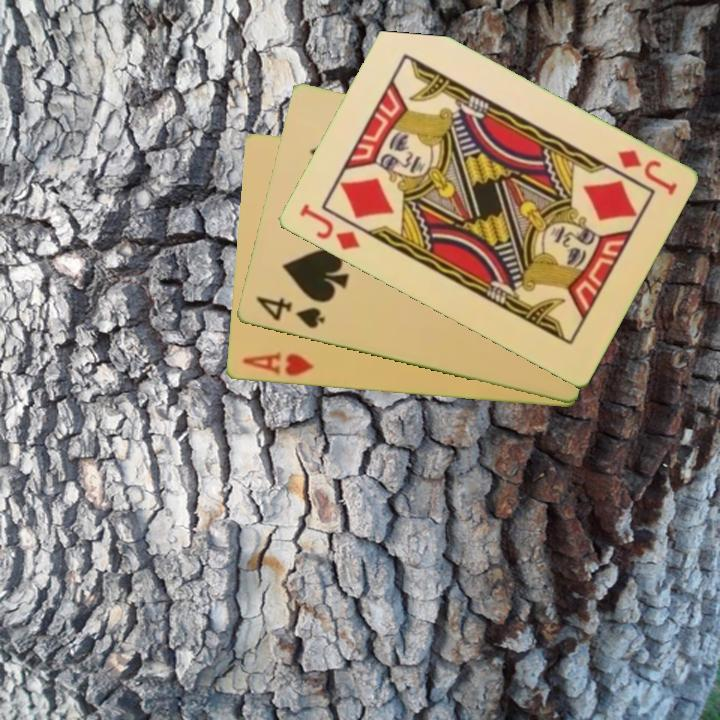4s: (251, 293, 328, 332)
Ah: (238, 348, 316, 380)
Jd: (295, 201, 363, 254), (613, 146, 680, 199)
